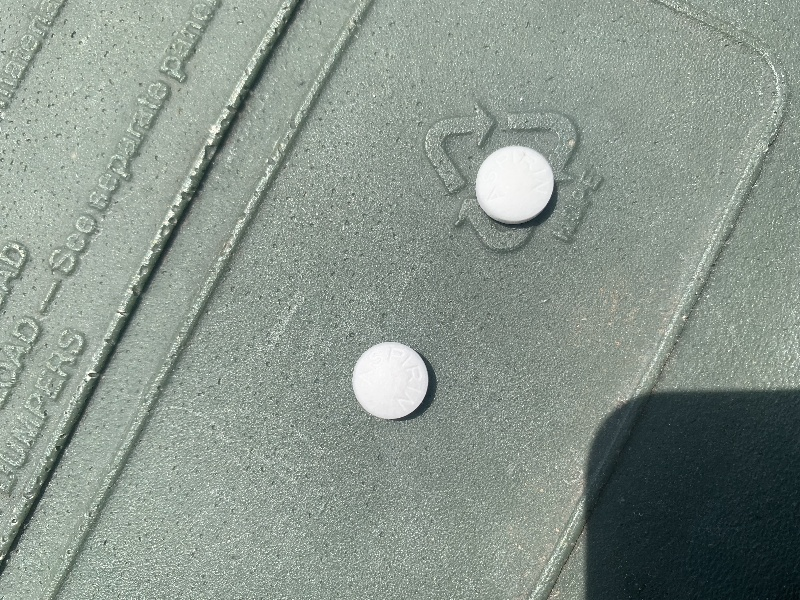Aspirin: (472, 141, 561, 227), (348, 339, 433, 423)
